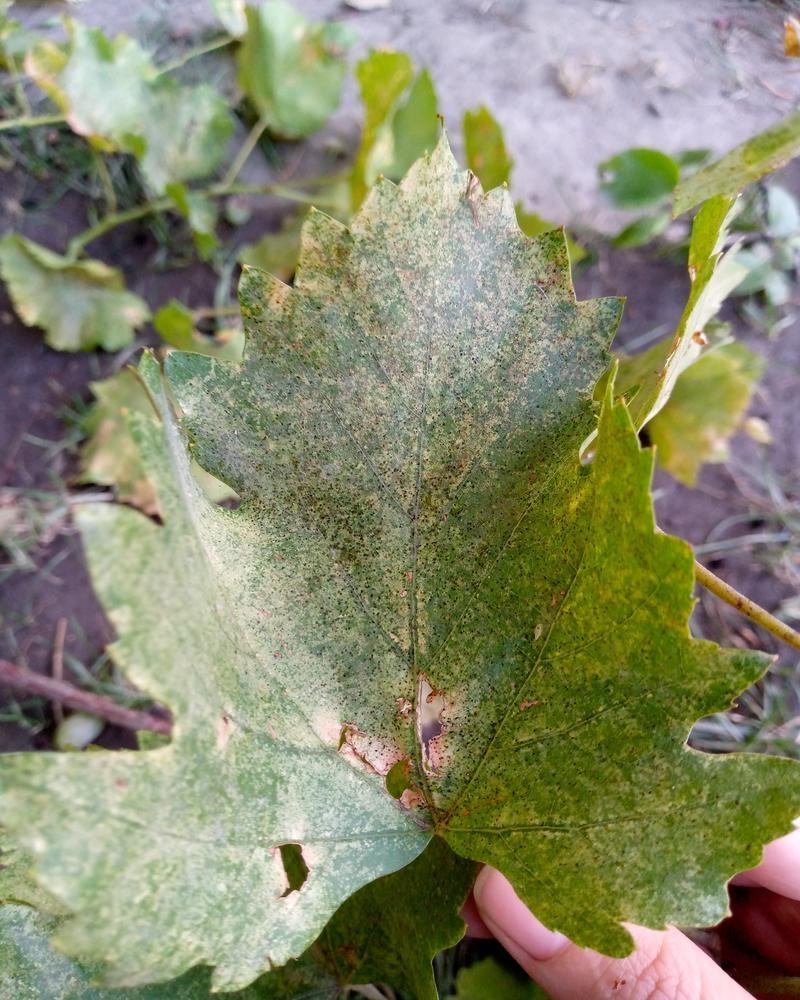Powdery-Mildew: (0, 747, 361, 967), (79, 448, 311, 756), (240, 159, 529, 375), (283, 666, 513, 823), (562, 767, 748, 924), (343, 407, 481, 618), (564, 440, 691, 663)
